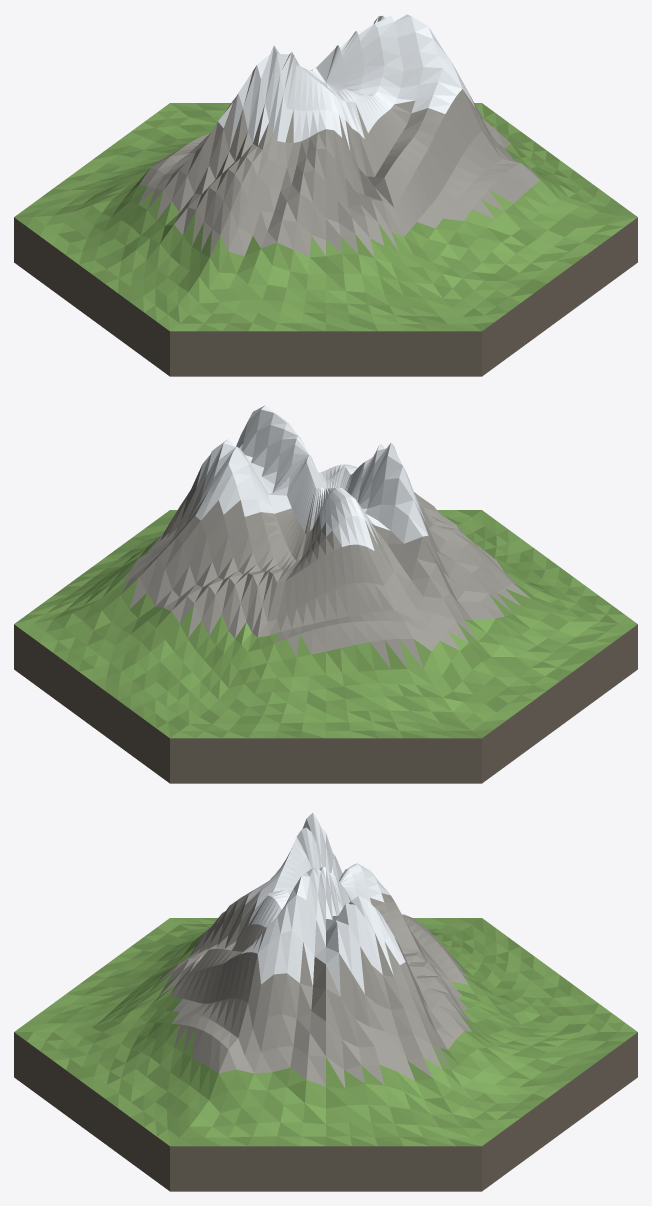
File: TERRAIN_GRASS_MOUNTAIN_v00.fbx
The picture shows the model from 3 angles, top to bottom: view 1: azimuth 30°, elevation 25°; view 2: azimuth 150°, elevation 25°; view 3: azimuth 270°, elevation 25°; orthographic projection.
Parts seen in each view (by area): view 1: TERRAIN_GRASS_MOUNTAIN_v00; view 2: TERRAIN_GRASS_MOUNTAIN_v00; view 3: TERRAIN_GRASS_MOUNTAIN_v00.
Part boxes in pixels (left/top/right/bottom): TERRAIN_GRASS_MOUNTAIN_v00: left=14, top=14, right=637, bottom=376; TERRAIN_GRASS_MOUNTAIN_v00: left=14, top=405, right=637, bottom=783; TERRAIN_GRASS_MOUNTAIN_v00: left=14, top=813, right=637, bottom=1191.
Bounding box in the file's own units: 173 × 83.99 × 200.
